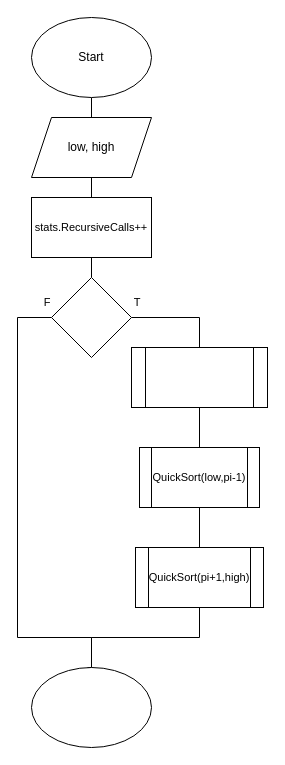
Image size: 285x765. Some labels were removed from this diagram. The box of each missing label's shape, as (x1, y1, x2, y2) in pixels:
End: (30, 666, 152, 748)
low<high: (50, 276, 132, 358)
pi=Partition(low,high): (130, 346, 268, 408)
